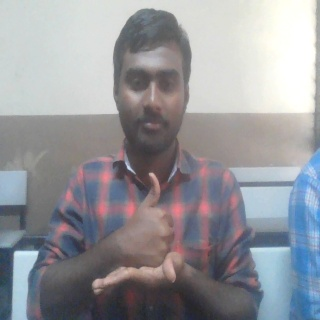Face: (110, 6, 193, 158)
Help: (87, 168, 186, 301)
